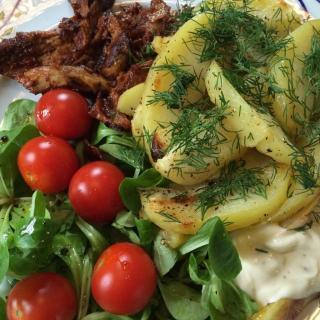tomato: (90, 241, 156, 315), (65, 154, 127, 228), (17, 134, 80, 196), (7, 270, 72, 320), (36, 89, 90, 148)
